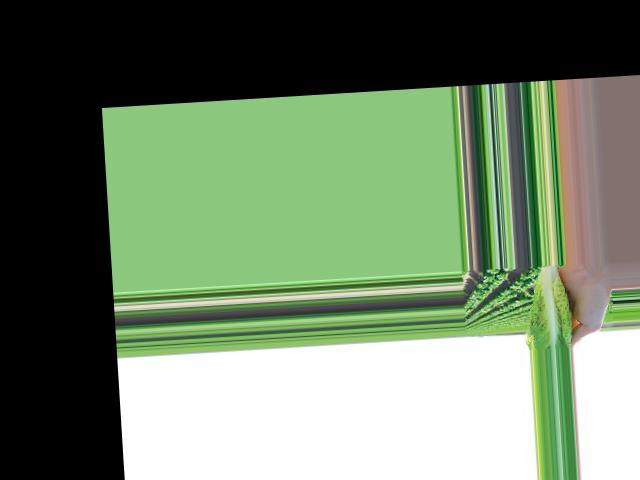lettuce: (523, 263, 572, 348)
